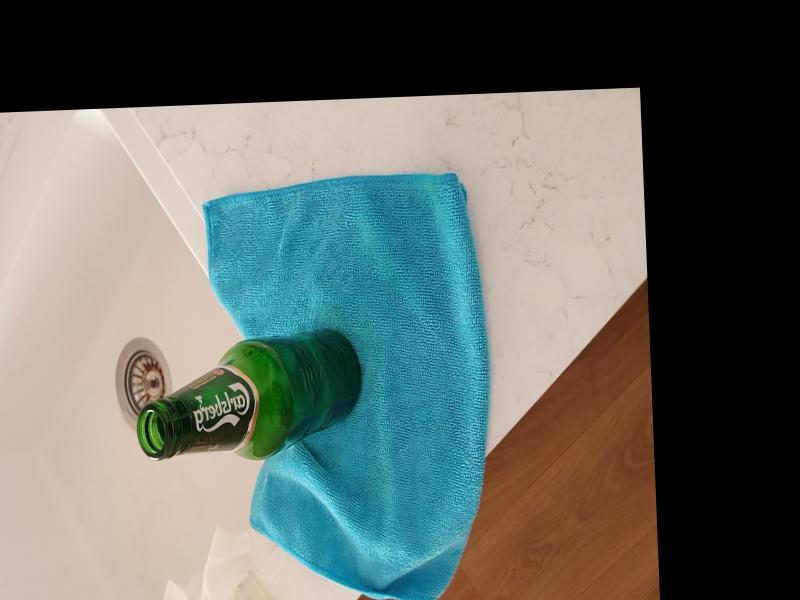Beer: (136, 330, 368, 465)
